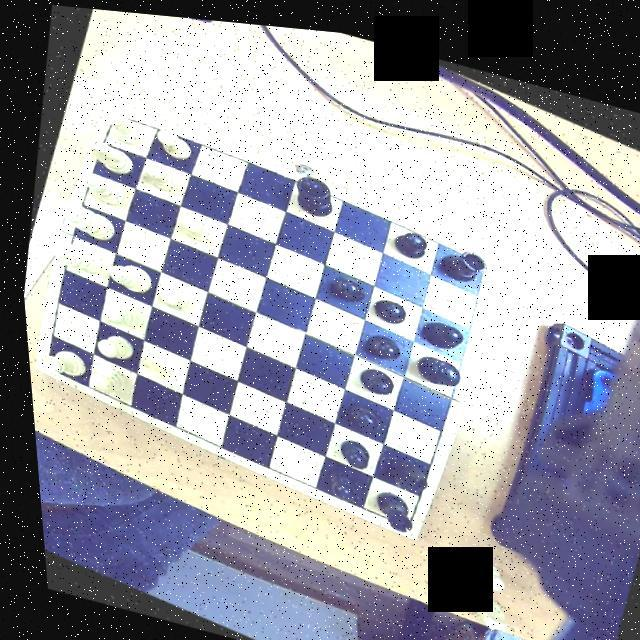chess-table-corners: (27, 352, 62, 380), (384, 500, 416, 530), (460, 241, 492, 271), (98, 101, 126, 128)
